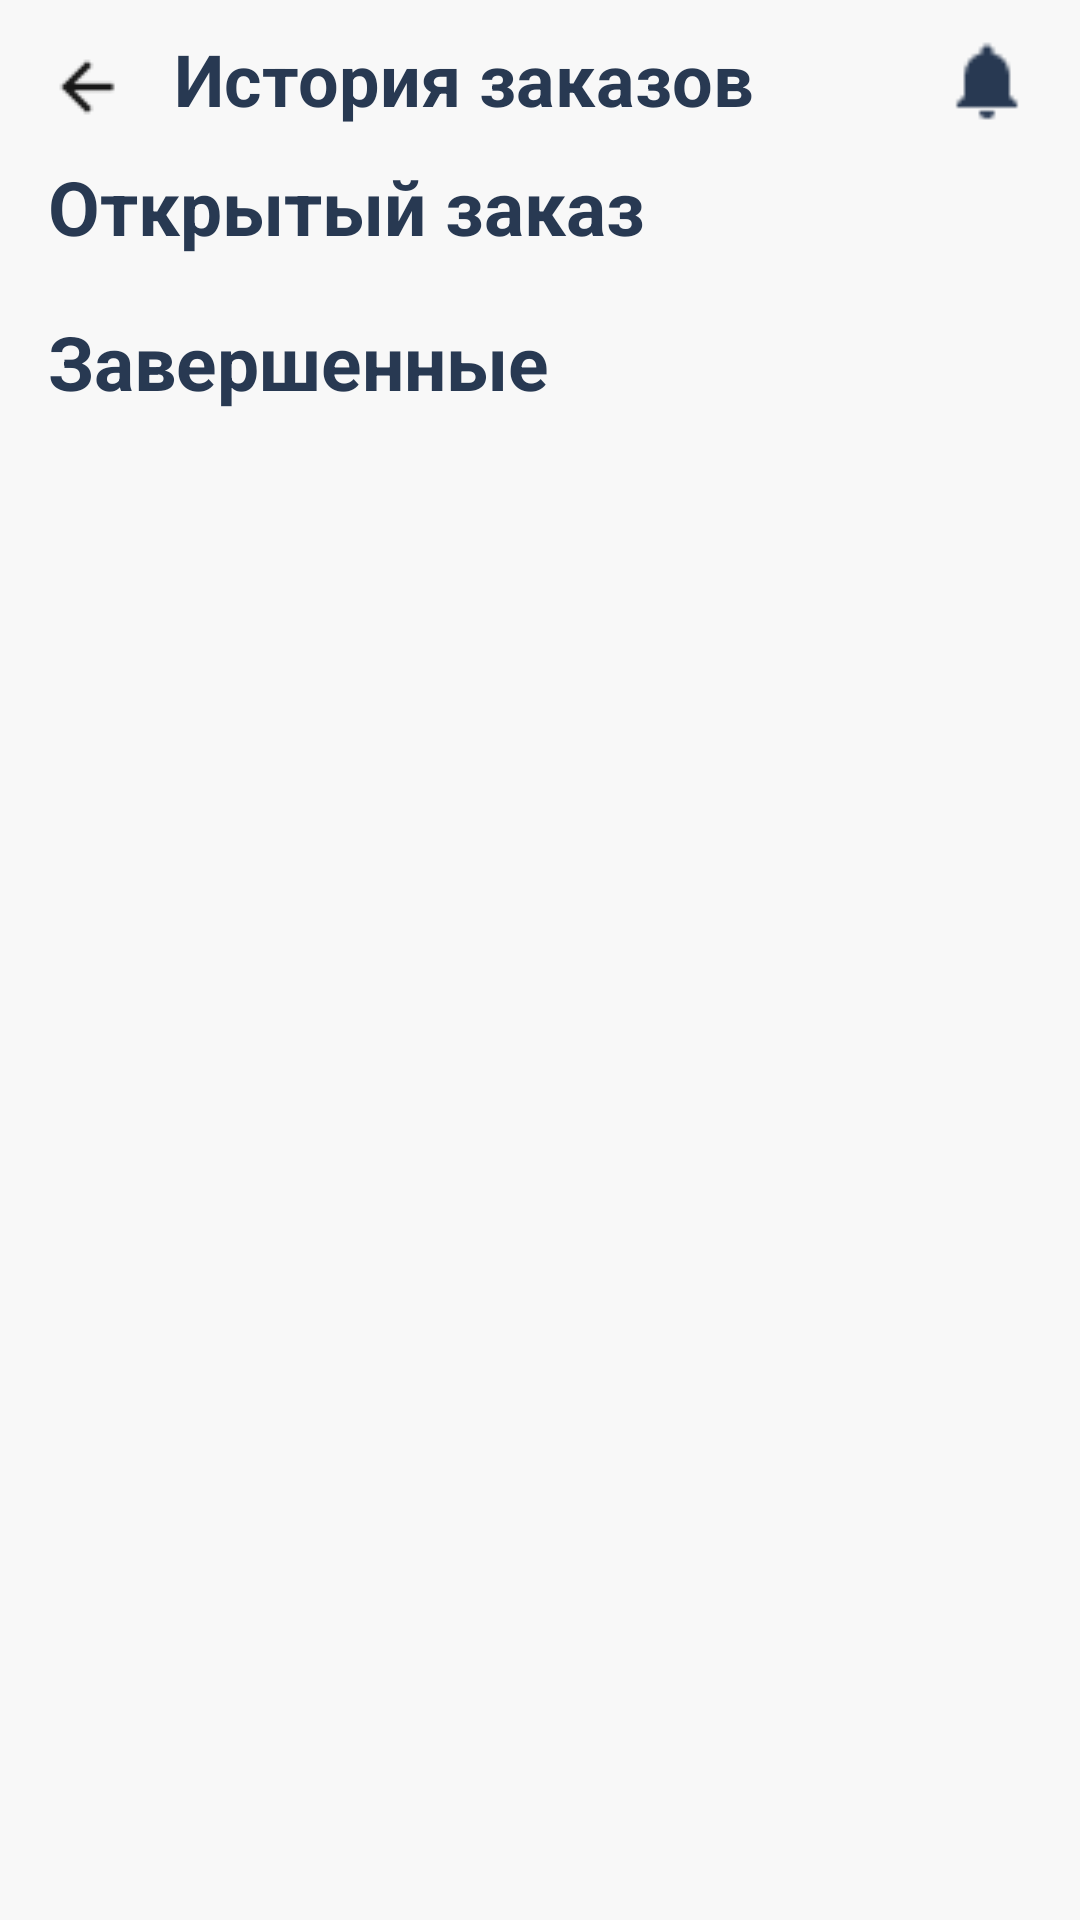

Where to tap for icons on this 1080x1920 app screen, as point (x, y):
back: point (87, 87)
notif: point (987, 81)
